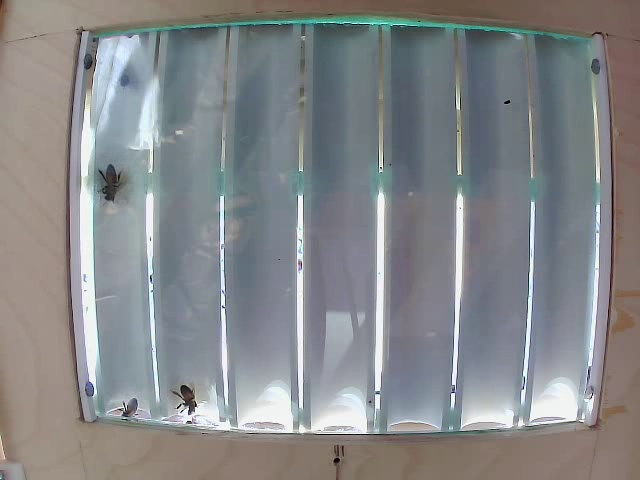bee: (92, 163, 129, 207), (170, 370, 196, 412)
